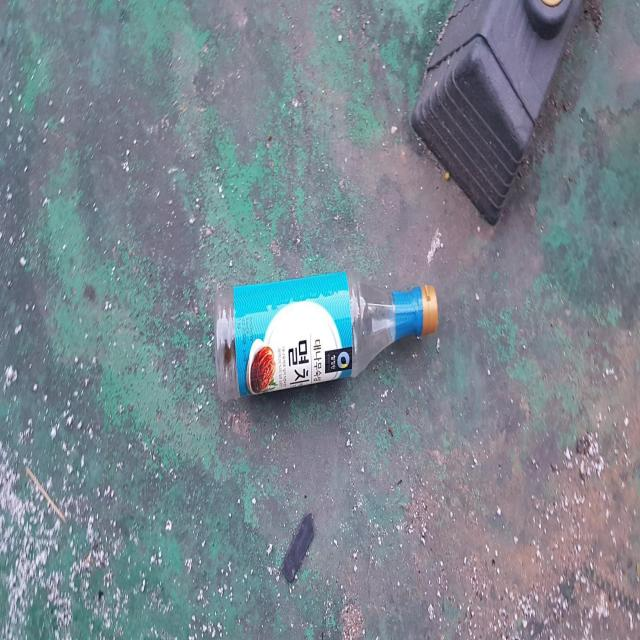plastic: (214, 270, 439, 401)
